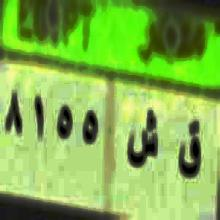1: (30, 88, 48, 144)
5: (53, 92, 74, 152), (82, 106, 100, 153)
8: (6, 88, 23, 144)
qaaf: (176, 110, 202, 183)
sheen: (129, 104, 158, 176)
